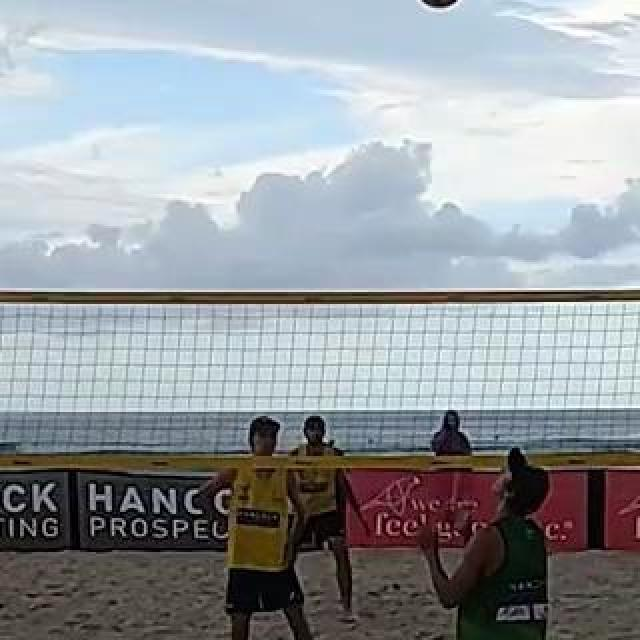volleyball: (418, 0, 460, 8)
